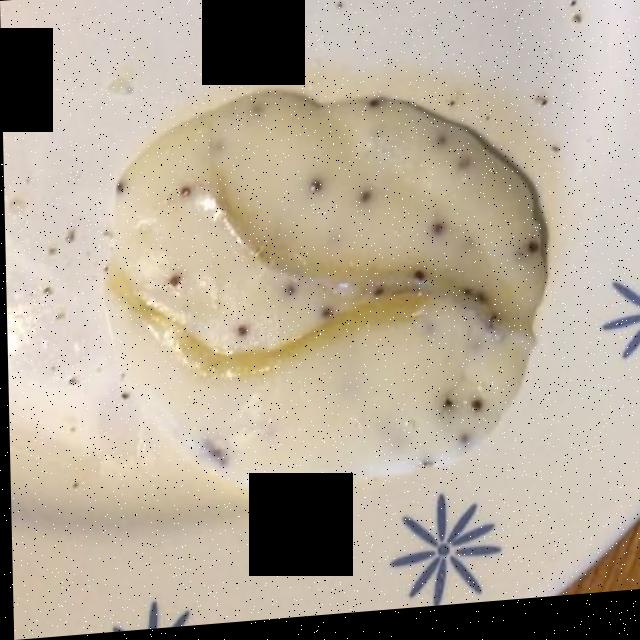cheese-for-raclette: (112, 97, 533, 498)
